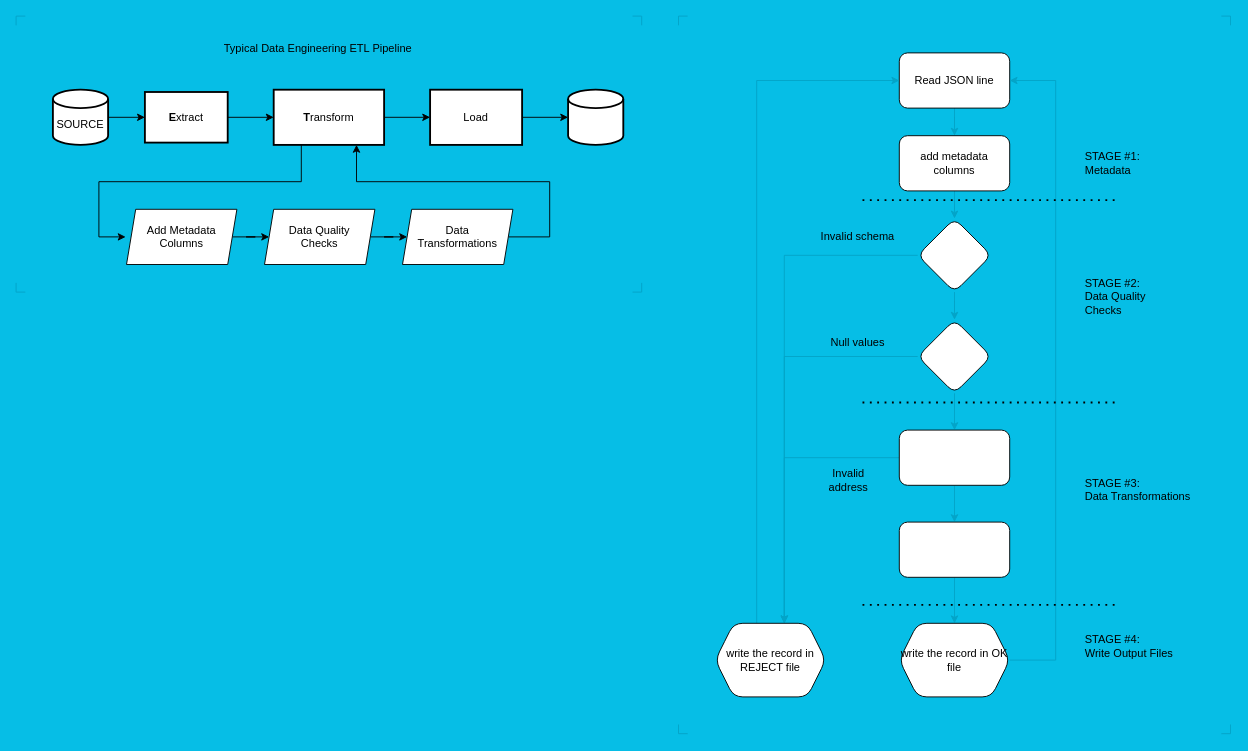
This 1248x751 diagram has some shape labels left out. Each missing label, with the centre of its shape:
"check null value" goes at point (954, 356).
"check schema" goes at point (954, 255).
"count the credit cards into num_cards" goes at point (954, 549).
"parse address fields" goes at point (954, 457).
"TARGET" goes at point (595, 116).
